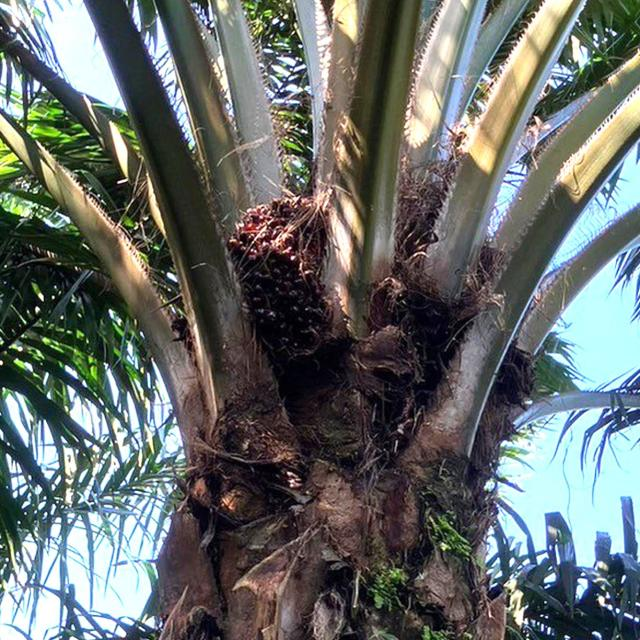ripe: (229, 199, 324, 344)
